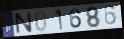0: (34, 10, 49, 33)
1: (55, 9, 64, 32)
6: (104, 4, 118, 28), (69, 9, 83, 29)
8: (86, 6, 102, 29)
N: (13, 10, 33, 35)
